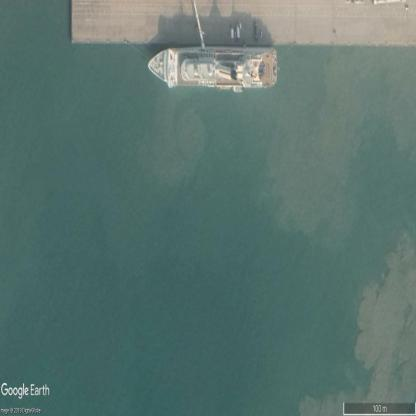ship: (148, 46, 278, 88)
